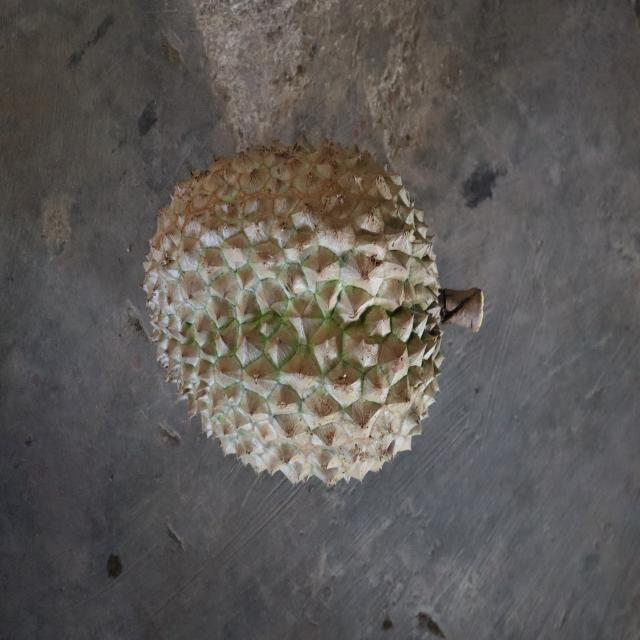mature: (140, 138, 444, 488)
